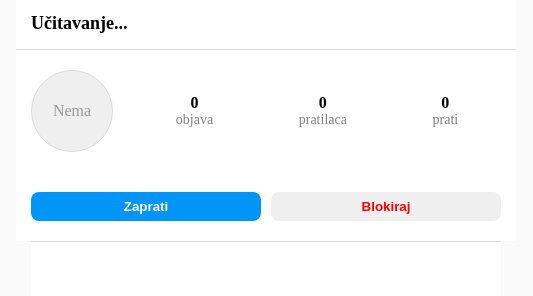
Test case: Profile Komponenta › menja stanje dugmeta kada se klikne na Blokiraj (tuđi profil)
Click the button "Blokiraj": (386, 206) [271,192,501,221]
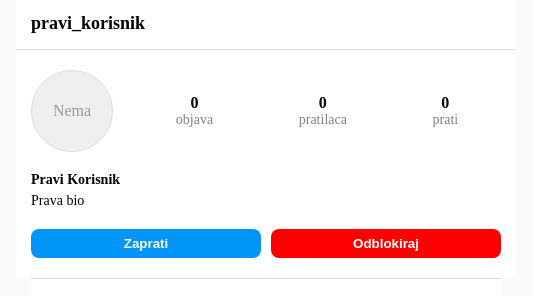
expect the button "Odblokiraj" is shown: met, box [271,229,501,258]
